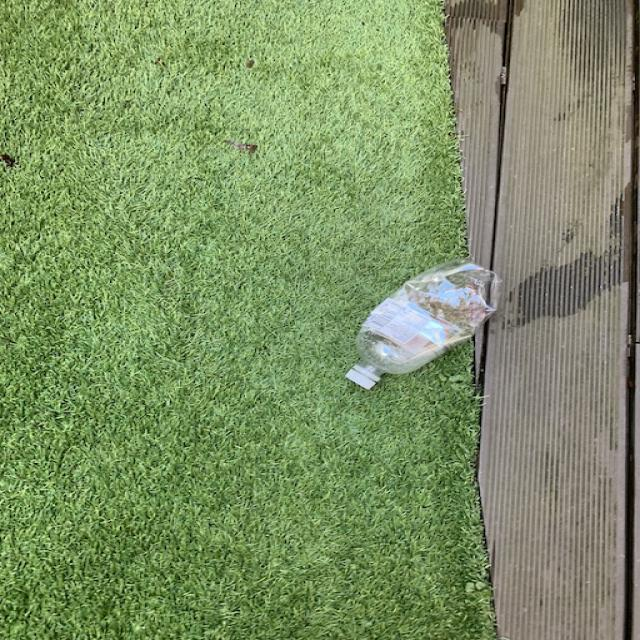chai: (346, 261, 499, 390)
